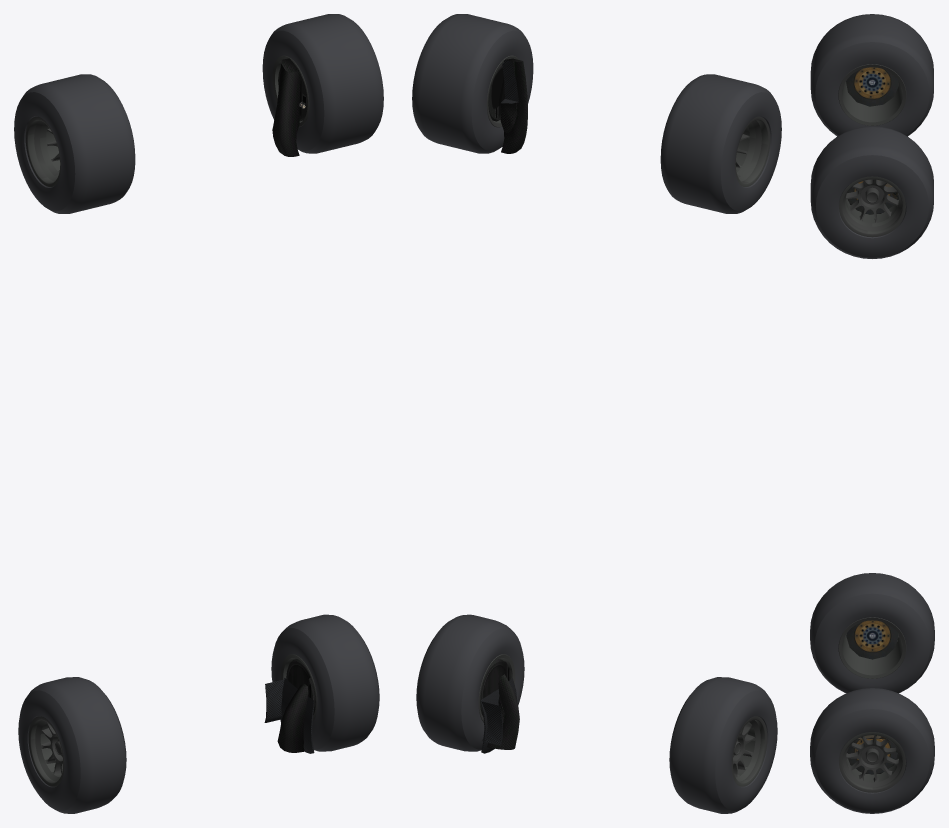
File: 4wheels2.obj
3 renders of one model, left to right at view 1: azimuth 30°, elevation 25°; view 2: azimuth 150°, elevation 25°; view 3: azimuth 270°, elevation 25°, orthographic. The views are drawn at different scales.
Visible parts, largest first — view 1: object__50, object__52, object__46, object__48, object__45, object__49, object__27, object__51, object__47, object__29, object__18, object__20; view 2: object__50, object__52, object__46, object__48, object__45, object__49, object__47, object__51, object__27, object__29, object__18, object__20; view 3: object__47, object__51, object__45, object__49, object__52, object__50, object__48, object__46, object__21, object__19, object__18, object__20 (+4 smaller).
Boxes of the visible parts, bbox=[...] form: object__50: bbox=[22, 74, 135, 213]; object__52: bbox=[269, 14, 383, 153]; object__46: bbox=[28, 677, 125, 813]; object__48: bbox=[282, 614, 378, 751]; object__45: bbox=[18, 690, 126, 810]; object__49: bbox=[14, 92, 134, 211]; object__27: bbox=[264, 659, 315, 753]; object__51: bbox=[262, 30, 324, 150]; object__47: bbox=[271, 628, 379, 749]; object__29: bbox=[272, 58, 307, 156]; object__18: bbox=[28, 716, 64, 786]; object__20: bbox=[25, 116, 60, 186]; object__50: bbox=[660, 74, 774, 213]; object__52: bbox=[412, 14, 525, 153]; object__46: bbox=[670, 677, 767, 813]; object__48: bbox=[417, 614, 513, 751]; object__45: bbox=[669, 690, 777, 810]; object__49: bbox=[661, 92, 781, 211]; object__47: bbox=[416, 628, 524, 749]; object__51: bbox=[471, 30, 533, 150]; object__27: bbox=[480, 659, 519, 753]; object__29: bbox=[488, 58, 527, 153]; object__18: bbox=[731, 716, 767, 786]; object__20: bbox=[735, 116, 770, 186]; object__47: bbox=[815, 709, 929, 812]; object__51: bbox=[815, 155, 928, 257]; object__45: bbox=[814, 593, 930, 692]; object__49: bbox=[815, 42, 929, 135]; object__52: bbox=[810, 126, 933, 258]; object__50: bbox=[810, 14, 933, 136]; object__48: bbox=[810, 688, 934, 813]; object__46: bbox=[810, 573, 934, 693]; object__21: bbox=[839, 176, 905, 237]; object__19: bbox=[839, 732, 905, 792]; object__18: bbox=[838, 617, 906, 678]; object__20: bbox=[838, 64, 906, 125].
Bounding box in the file's own units: 1.76 × 3.85 × 0.6512.
